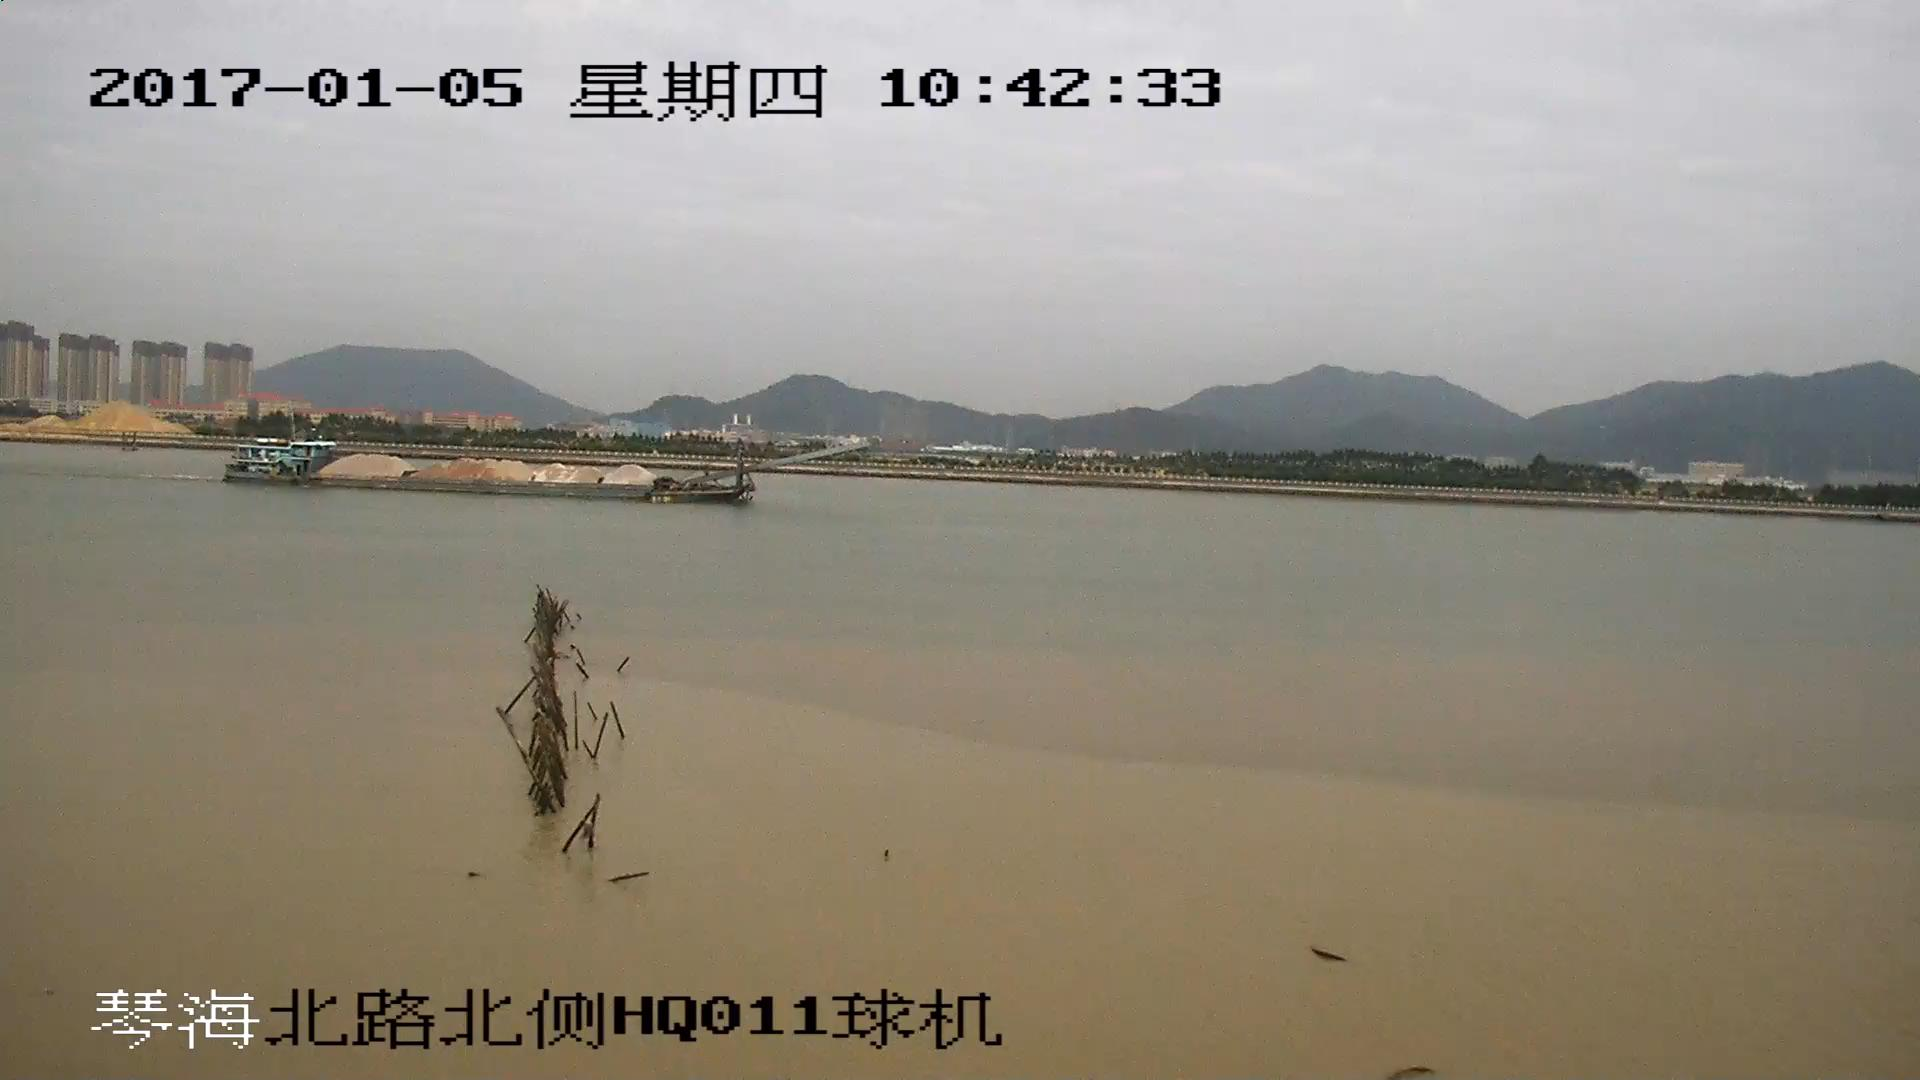ore carrier: (220, 442, 870, 506)
